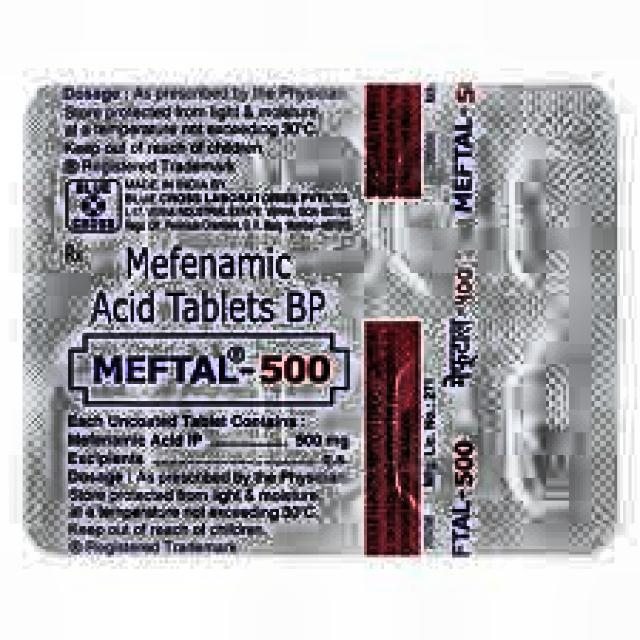Meftal: (73, 321, 351, 416)
